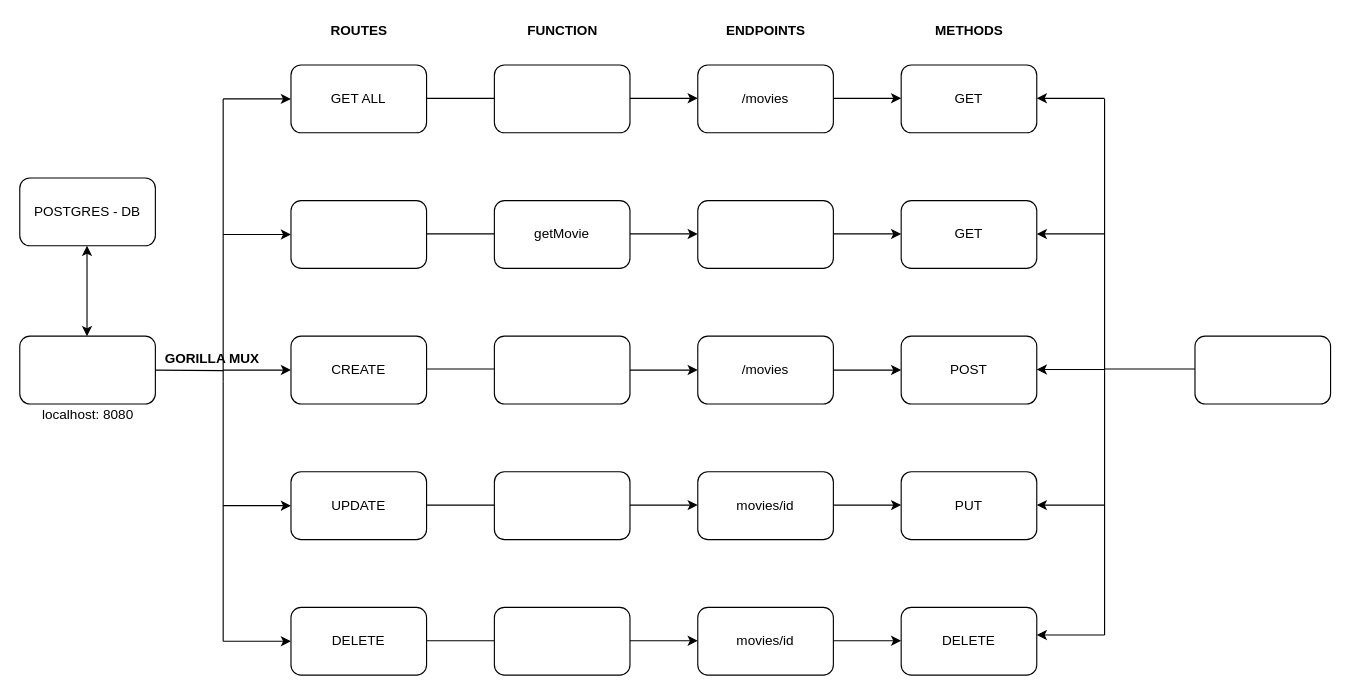
Some shapes in this 1350 by 695 pixel diagram are drawn without their labels. The shapes that lost their labels are listed below. From the top down, each one's centre as x and y in pixels, then its label:
At point (561, 98): "getMovies".
At point (358, 233): "GET BY ID".
At point (765, 233): "/movies/id".
At point (87, 369): "API SERVER".
At point (561, 369): "createMovie".
At point (1262, 369): "Postman".
At point (561, 505): "udpateMovie".
At point (561, 640): "deleteMovie".
